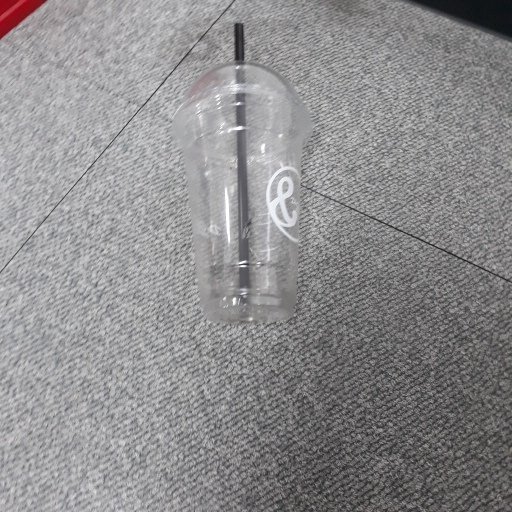Plastic_2: (175, 21, 310, 325)
